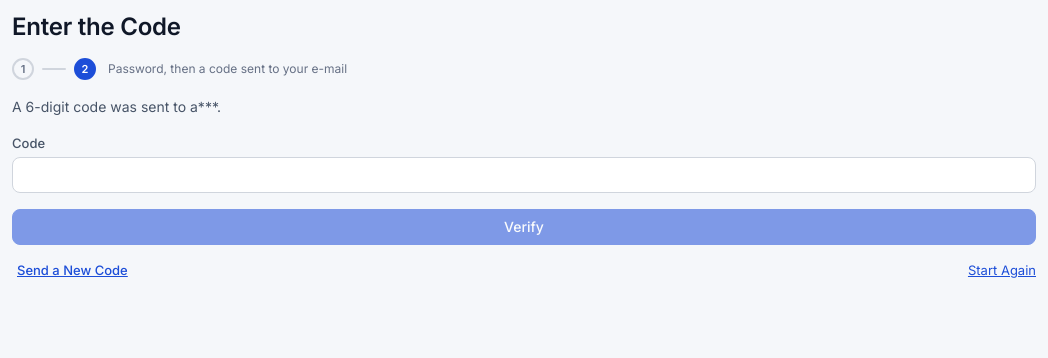
it: sign-in › a wrong code shows attempts_left
The image size is (1048, 358).
Type "123456" into the field labelled "Code" at coordinates (524, 175), box 12,157 -> 1036,193
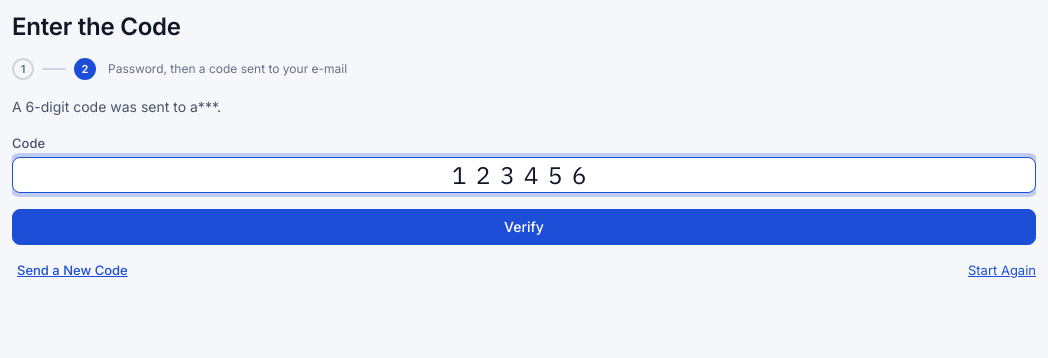
Click the button "Verify" at coordinates (524, 227), box 12,209 -> 1036,245
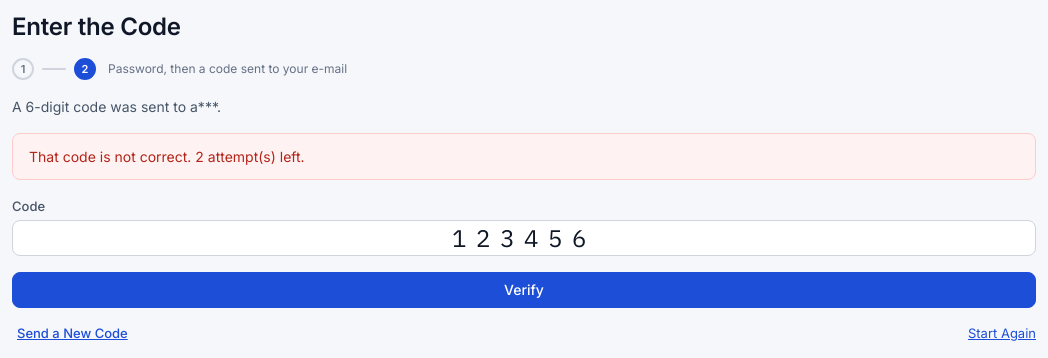
expect the message shows "2 attempt(s) left": met, box 29,148 -> 305,165
